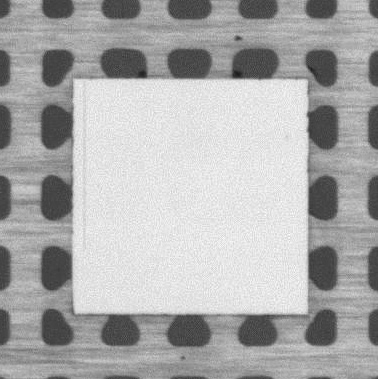DIE_CRACK: (81, 82, 87, 255)
